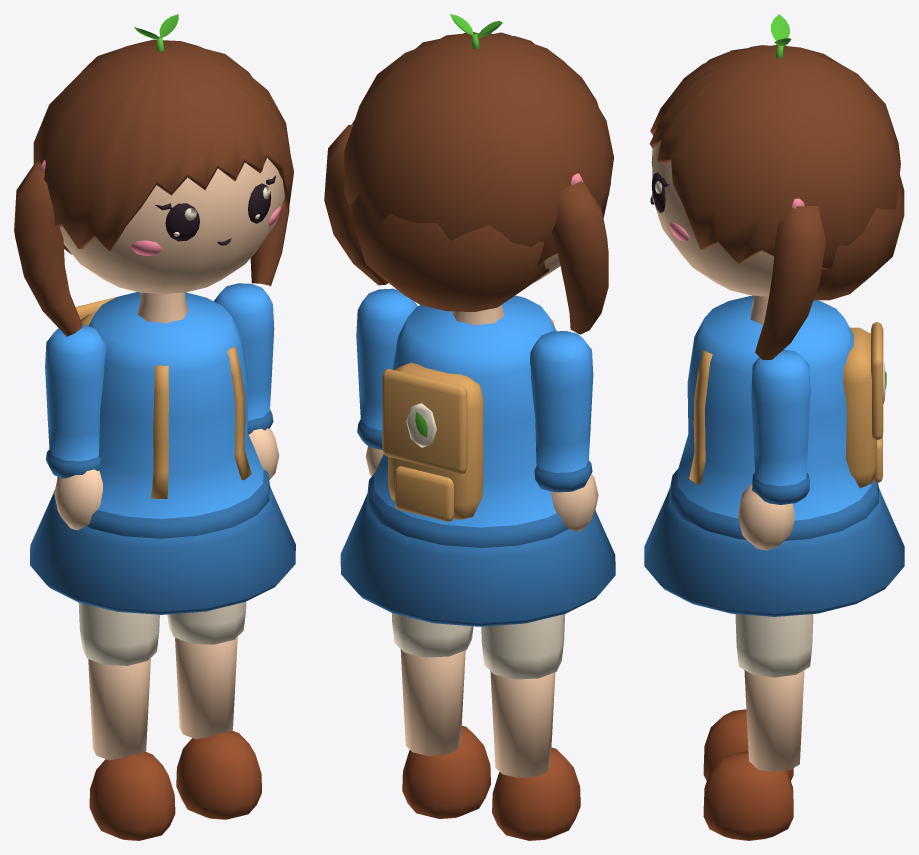
Rendered from hero-girl-tall.glb.
3 renders of one model, left to right at view 1: azimuth 30°, elevation 25°; view 2: azimuth 150°, elevation 25°; view 3: azimuth 270°, elevation 25°, orthographic. The views are drawn at different scales.
Parts seen in each view (by area): view 1: head, body, leg-left, leg-right, arm-left, arm-right; view 2: head, body, leg-left, leg-right, arm-left, arm-right; view 3: head, body, leg-right, arm-right, leg-left, head-leaf.
Boxes of the visible parts, <box> form: head: <box>14,39,293,336</box>; body: <box>30,292,295,614</box>; leg-left: <box>78,602,175,840</box>; leg-right: <box>167,602,261,819</box>; arm-left: <box>45,324,106,530</box>; arm-right: <box>214,283,279,479</box>; head: <box>324,32,613,334</box>; body: <box>340,295,615,626</box>; leg-left: <box>481,614,580,840</box>; leg-right: <box>391,613,490,818</box>; arm-left: <box>530,331,598,531</box>; arm-right: <box>356,288,417,476</box>; head: <box>650,45,904,359</box>; body: <box>644,295,904,616</box>; leg-right: <box>703,614,813,840</box>; arm-right: <box>738,349,810,550</box>; leg-left: <box>703,709,793,780</box>; head-leaf: <box>771,14,791,58</box>.
Bounding box in the file's own units: 0.9785 × 2.69 × 0.8098.
